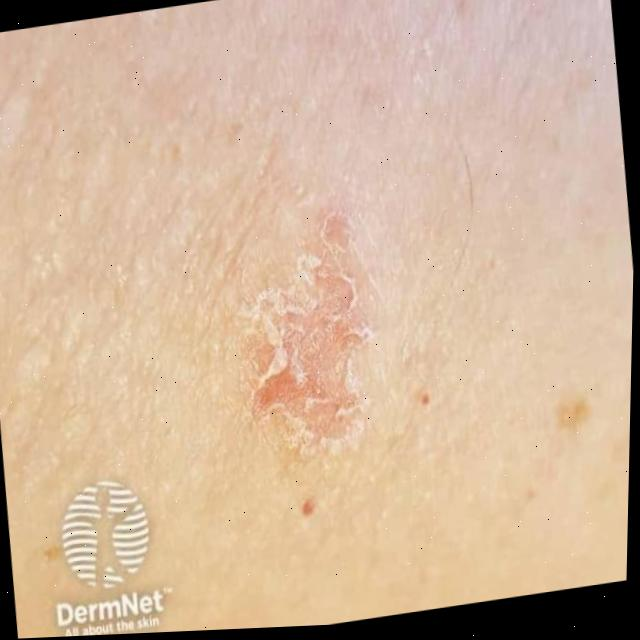Eczema: (253, 272, 378, 435)
